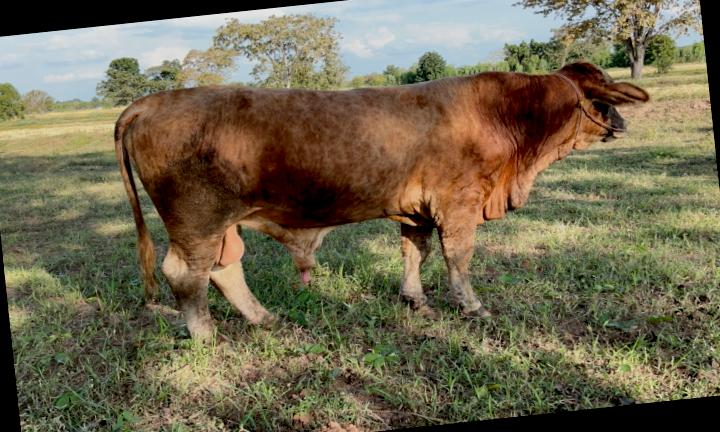Charolais: (114, 62, 649, 337)
